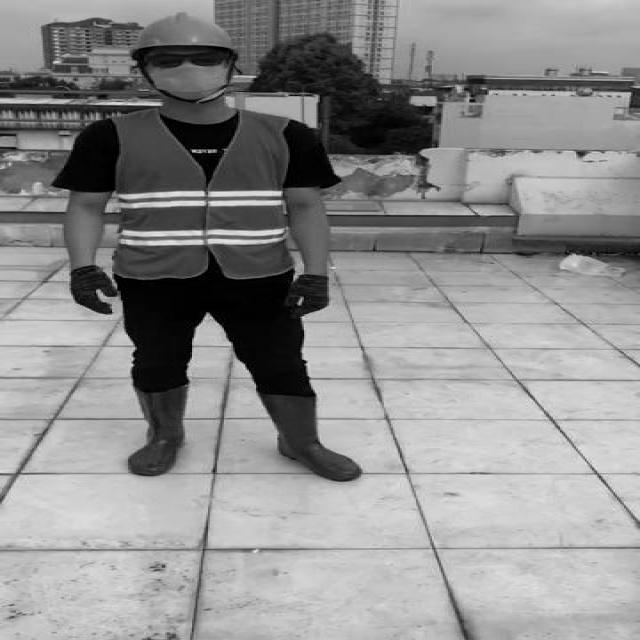boots: (260, 390, 362, 481), (128, 382, 192, 475)
face_mask: (149, 48, 231, 100)
glasses: (142, 48, 233, 74)
hand_glove: (70, 265, 118, 317), (286, 274, 329, 316)
head_helmet: (127, 10, 246, 57)
person: (52, 14, 368, 483)
vest: (115, 112, 297, 278)
